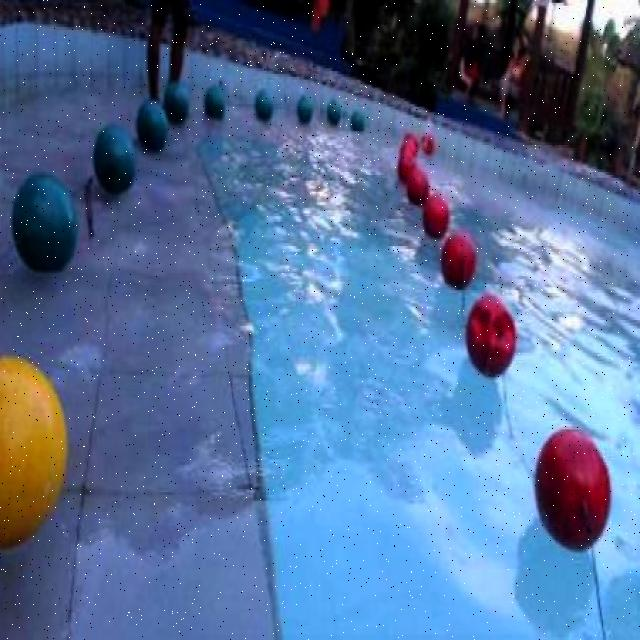buoy: (0, 353, 68, 550), (534, 426, 609, 552), (11, 170, 79, 274), (464, 290, 517, 378), (93, 120, 135, 191), (440, 229, 477, 290), (135, 98, 167, 148), (421, 192, 449, 240), (162, 80, 189, 121), (404, 167, 428, 206), (203, 82, 225, 114), (396, 148, 416, 181), (253, 88, 273, 120), (296, 92, 313, 122), (349, 108, 365, 132), (324, 98, 340, 121)
